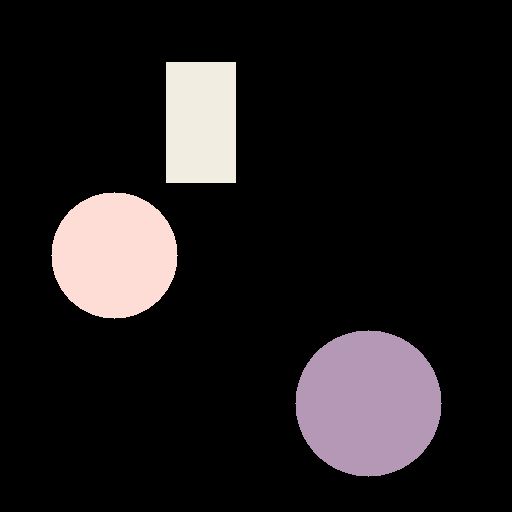circle: (295, 330, 441, 476), (51, 192, 177, 318)
rectangle: (166, 62, 235, 182)
